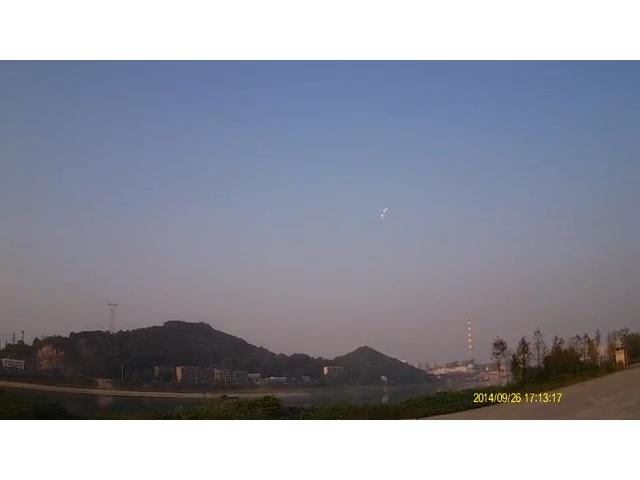Anti-Drone: (369, 198, 397, 224)
